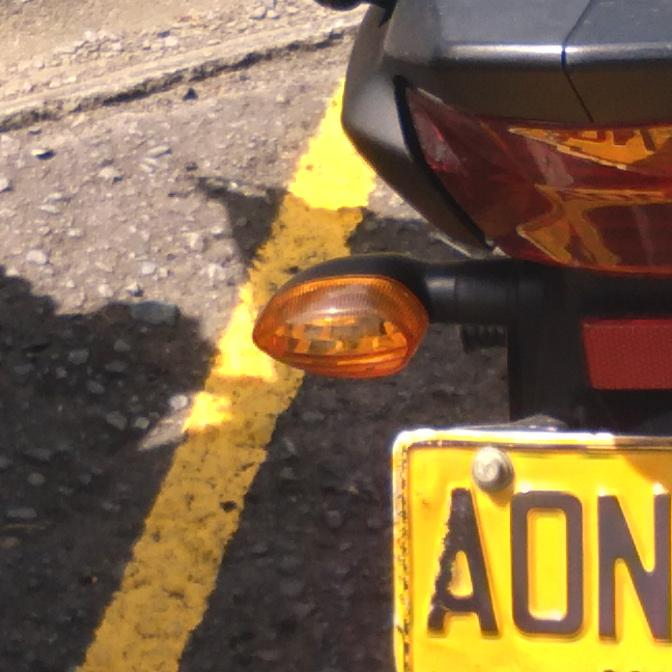plates: (390, 430, 672, 672)
